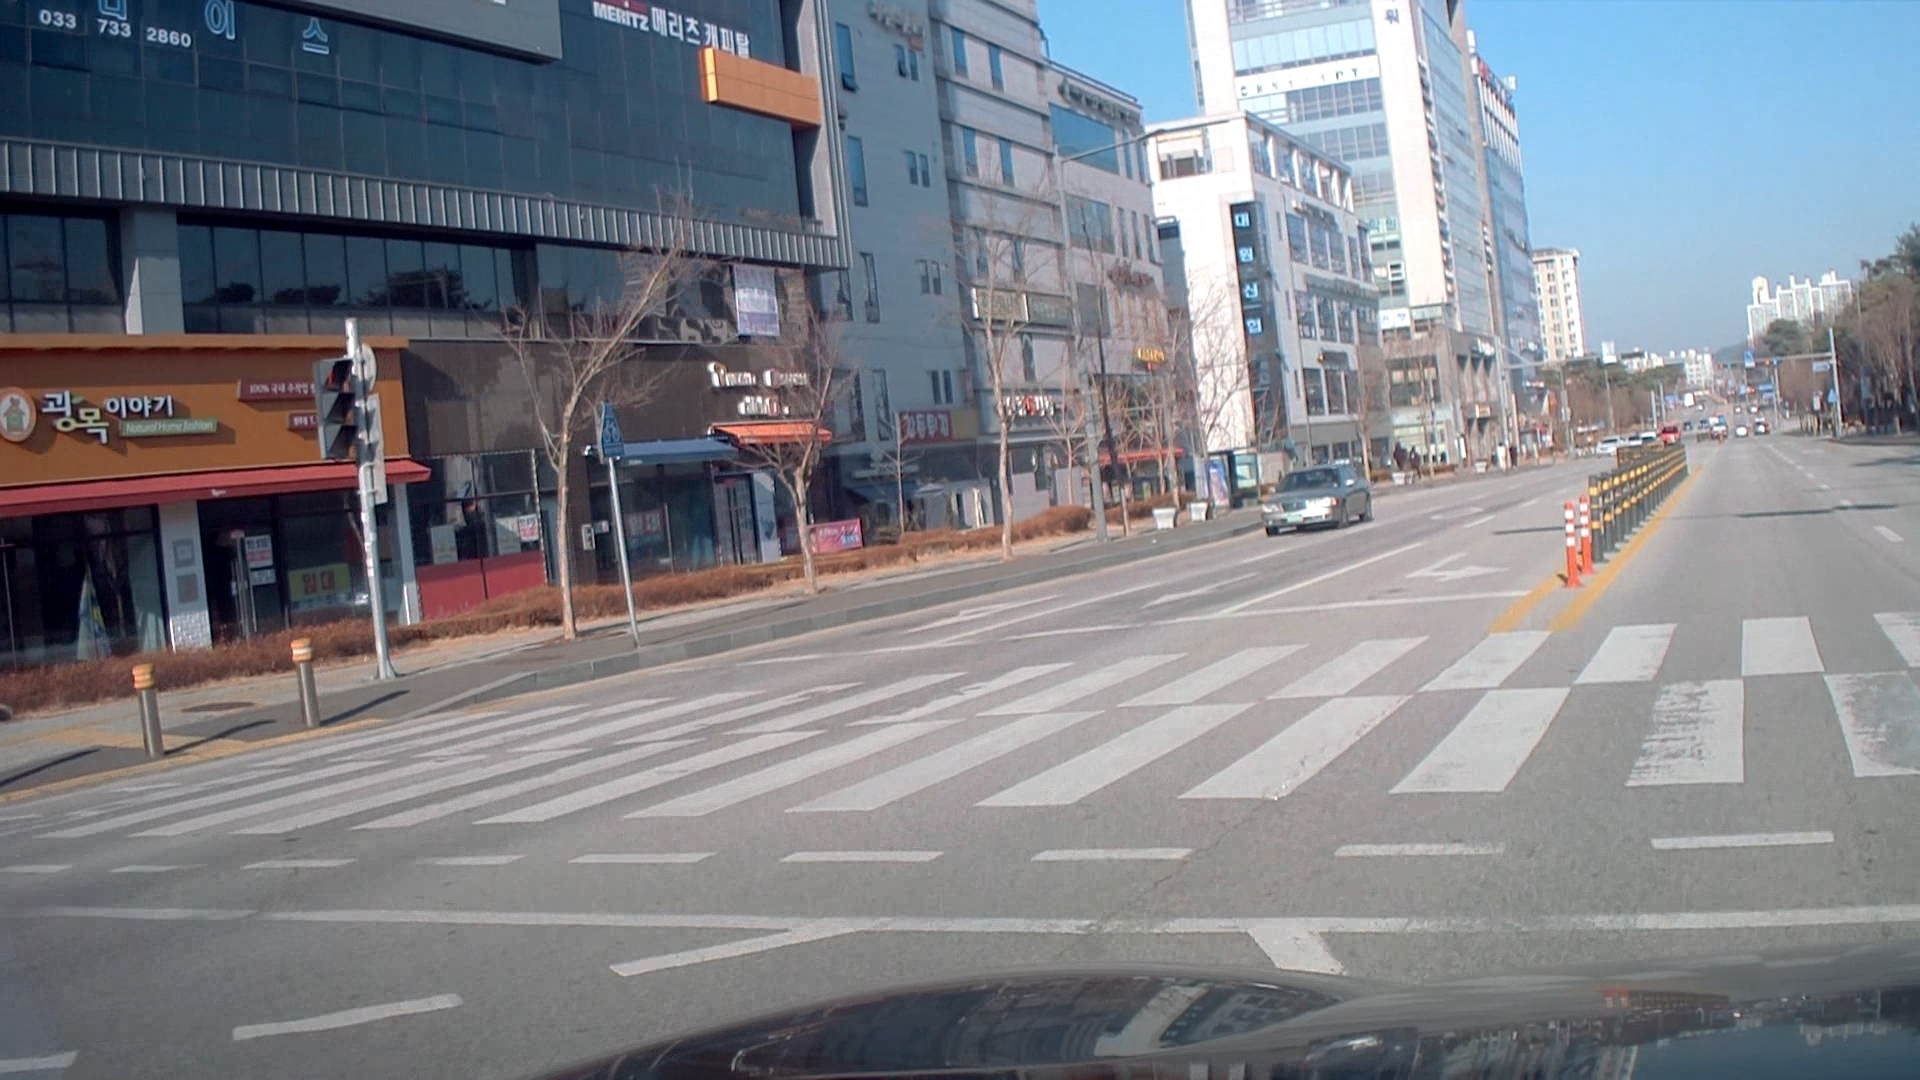trafficLight: (1708, 357, 1787, 372)
